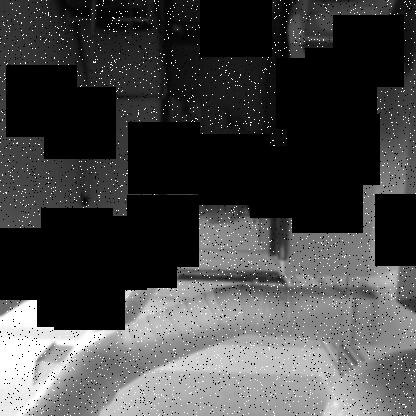Porte: (153, 0, 301, 262)
